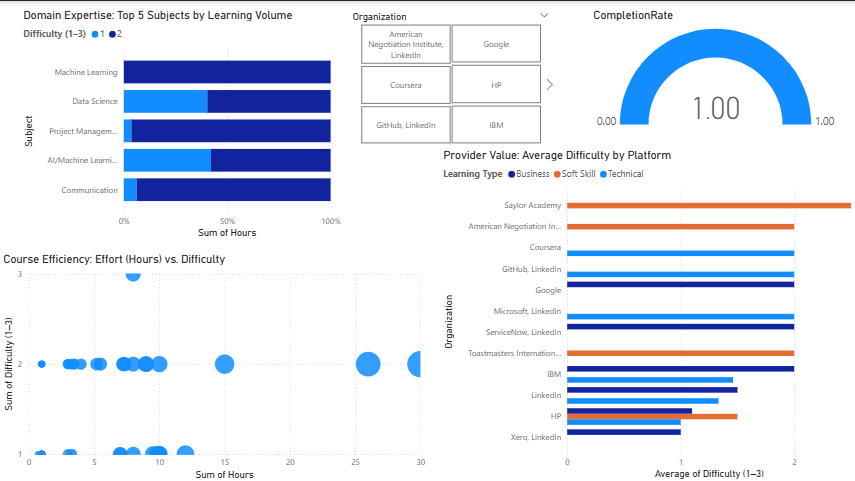

The dashboard page shown, as its layout file describes it:
{"tool":"powerbi","page":{"name":"Deep Dive and Effeciency","canvas":[1280,720],"ordinal":1},"visuals":[{"type":"scatterChart","title":"Course Efficiency: Effort (Hours) vs. Difficulty ","fields":{"Category":["Sheet1.Course Name"],"X":["Sum(Sheet1.Hours)"],"Y":["Sum(Sheet1.Difficulty (1–3))"],"Size":["Sum(Sheet1.Hours)"]},"box":[0,375,640,345],"z":0},{"type":"clusteredBarChart","title":"Provider Value: Average Difficulty by Platform","fields":{"Y":["Avg(Sheet1.Difficulty (1–3))"],"Category":["Sheet1.Organization "],"Series":["Sheet1.Learning Type"]},"box":[657.3,219.6,622.9,500.4],"z":1000},{"type":"slicer","fields":{"Values":["Sheet1.Organization "]},"box":[513.9,10.5,318.2,209.1],"z":2000},{"type":"gauge","fields":{"Y":["Sheet1.CompletionRate"]},"box":[881.3,10.5,374.9,191.2],"z":2001},{"type":"hundredPercentStackedBarChart","title":"Domain Expertise: Top 5  Subjects by Learning Volume","fields":{"Category":["Sheet1.Subject"],"Y":["Sum(Sheet1.Hours)"],"Series":["Sheet1.Difficulty (1–3)"]},"box":[29.9,10.5,484,349.5],"z":2002}]}

Visuals, with their boxes in screenshot pixels (x1, y1, x2, y2), scaled from the page's 1280x720 canvas onto the 855x481 screenshot:
"Course Efficiency: Effort (Hours) vs. Difficulty " scatterChart: select_region(0, 251, 428, 480)
"Provider Value: Average Difficulty by Platform" clusteredBarChart: select_region(439, 147, 854, 480)
slicer - Sheet1.Organization : select_region(343, 7, 556, 147)
gauge - Sheet1.CompletionRate: select_region(589, 7, 839, 135)
"Domain Expertise: Top 5  Subjects by Learning Volume" hundredPercentStackedBarChart: select_region(20, 7, 343, 240)
